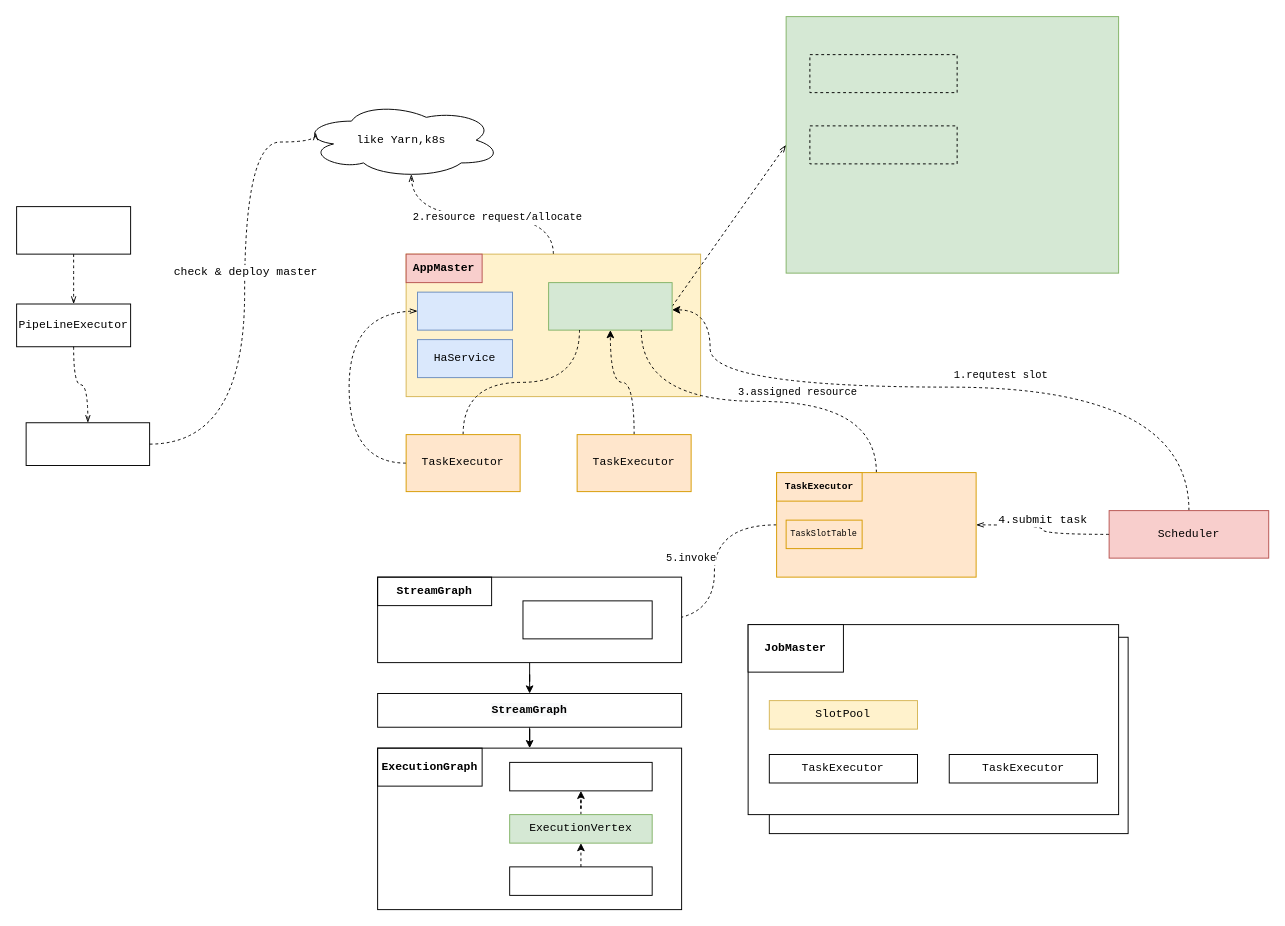
The diagram is 1285 pixels wide and 926 high, and some of its shapes have lost their labels. Here are the shapes that lost their labels. From the top down, the centre of each, then its label:
At point 883,73: "ResouceManagerDriver".
At point 883,144: "SlotManager".
At point 73,230: "CliFront".
At point 465,310: "BlobServer".
At point 610,306: "Flink RM".
At point 87,444: "ClusterDescriptor".
At point 587,619: "StreamTask".
At point 580,776: "ExecutionJobVertex".
At point 580,880: "Execution".
